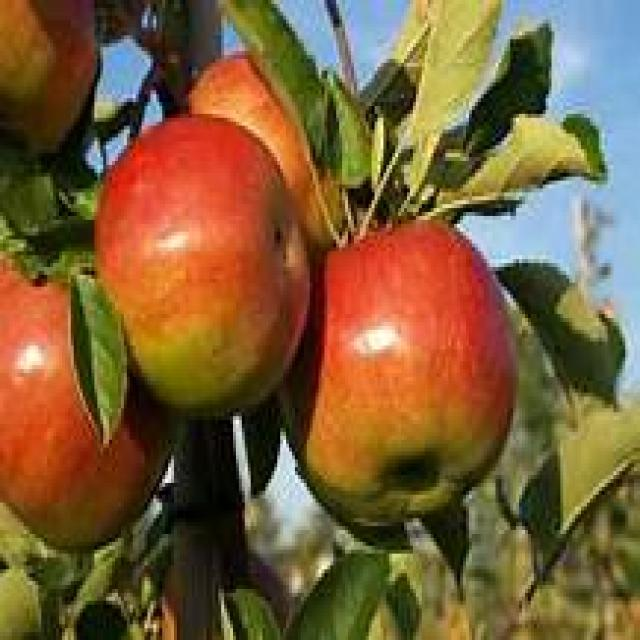apple: (93, 112, 313, 423), (312, 226, 512, 527)
